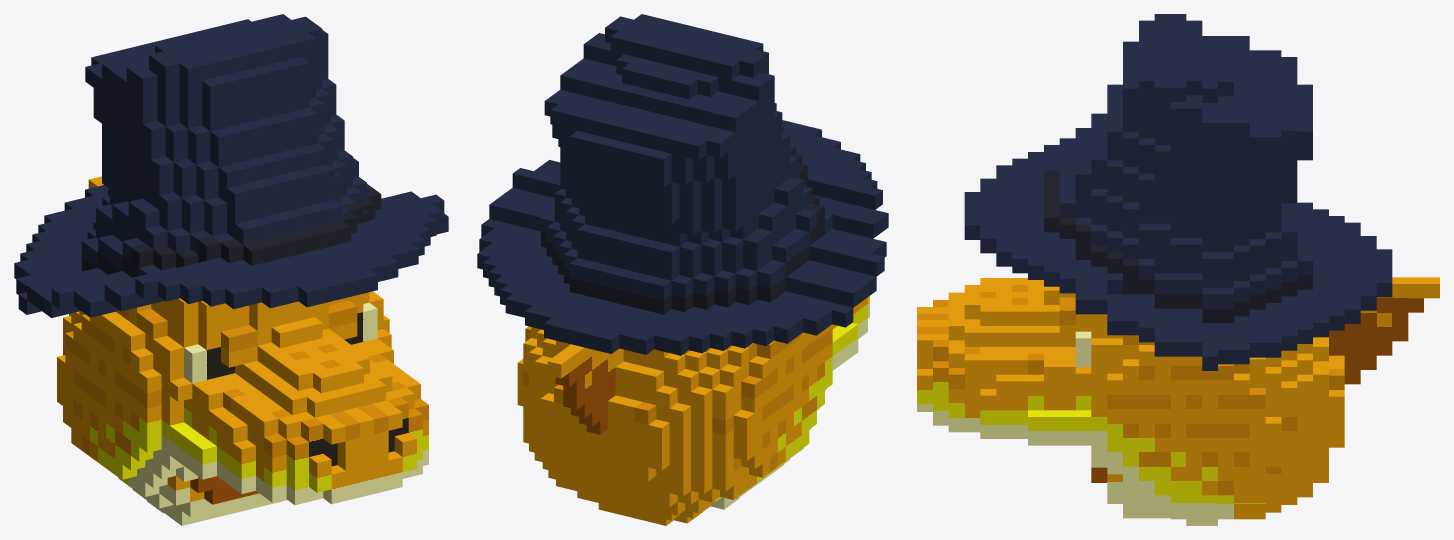
The model's file is top hat_lazer light.gltf.
3 renders of one model, left to right at view 1: azimuth 30°, elevation 25°; view 2: azimuth 150°, elevation 25°; view 3: azimuth 270°, elevation 25°, orthographic. The views are drawn at different scales.
Visible parts, largest first — view 1: C54_H_TopH_RedG_RBSpec_SkyD_LazerL-Mesh; view 2: C54_H_TopH_RedG_RBSpec_SkyD_LazerL-Mesh; view 3: C54_H_TopH_RedG_RBSpec_SkyD_LazerL-Mesh.
Part boxes in pixels (x1=…): C54_H_TopH_RedG_RBSpec_SkyD_LazerL-Mesh: x1=14, y1=14, x2=448, y2=525; C54_H_TopH_RedG_RBSpec_SkyD_LazerL-Mesh: x1=477, y1=14, x2=888, y2=525; C54_H_TopH_RedG_RBSpec_SkyD_LazerL-Mesh: x1=917, y1=14, x2=1439, y2=525.
Bounding box in the file's own units: 27 × 31 × 33.
Materials: 1 (1 with a texture image).
